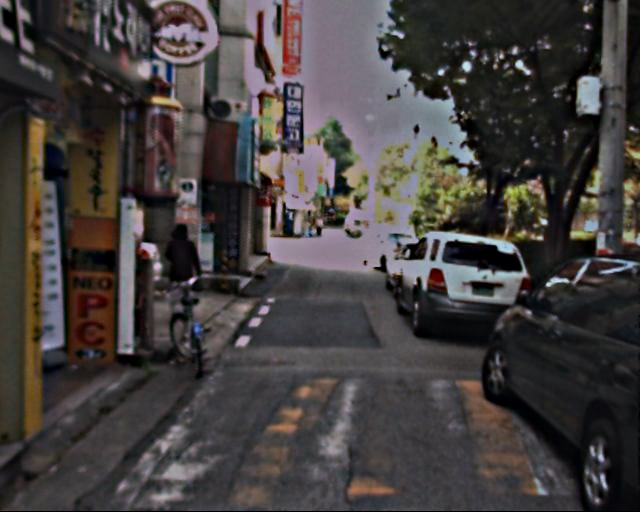person: (163, 218, 205, 322)
